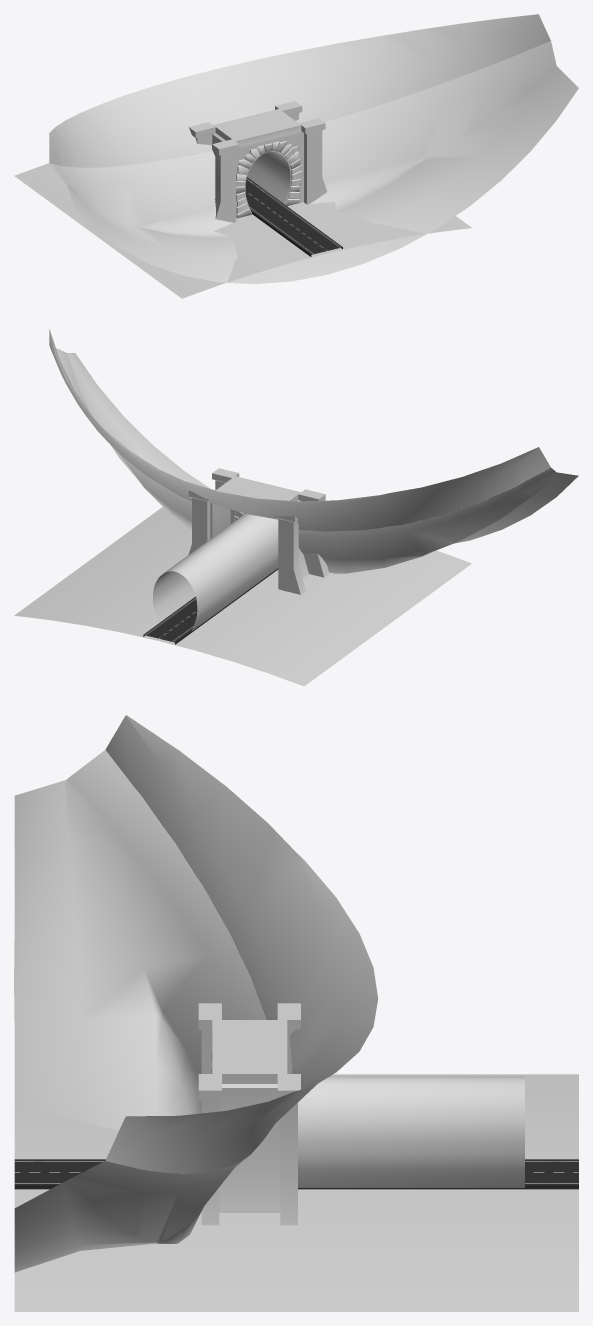
The model's file is finish.FBX.
3 renders of one model, top to bottom at view 1: azimuth 30°, elevation 25°; view 2: azimuth 150°, elevation 25°; view 3: azimuth 270°, elevation 25°, orthographic. The views are drawn at different scales.
Visible parts, largest first — view 1: Plane001, Plane004, Box001, Box006, Object001, Object003; view 2: Plane004, Plane001, Object001, Box001, Box006; view 3: Plane001, Plane004, Object001, Box001, Box006.
Part boxes in pixels (x1,y1,x2,y2): Plane001: (49,14,578,284); Plane004: (14,163,471,298); Box001: (189,101,326,222); Box006: (245,177,342,256); Object001: (236,133,303,218); Object003: (236,141,302,218); Plane004: (14,507,471,686); Plane001: (49,328,578,573); Object001: (153,509,278,631); Box001: (188,468,329,594); Box006: (143,568,278,644); Plane001: (14,715,378,1272); Plane004: (14,1074,578,1311); Object001: (298,1076,524,1187); Box001: (198,1003,300,1225); Box006: (14,1159,578,1189).
Bounding box in the file's own units: 44301 × 14842 × 25632.
